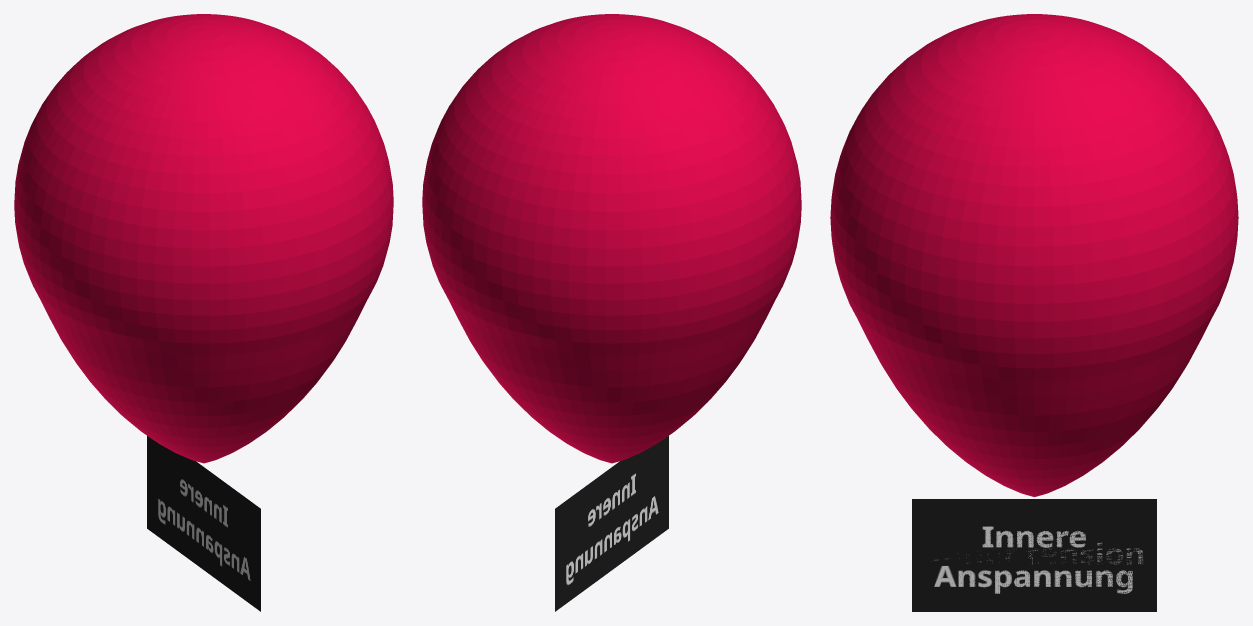
The model's file is ballon_03.glb.
3 renders of one model, left to right at view 1: azimuth 30°, elevation 25°; view 2: azimuth 150°, elevation 25°; view 3: azimuth 270°, elevation 25°, orthographic. The views are drawn at different scales.
Parts seen in each view (by area): view 1: Balloon, Sign_DE; view 2: Balloon, Sign_DE; view 3: Balloon, Sign_DE, Sign_EN.
Boxes of the visible parts, bbox=[...] form: Balloon: bbox=[14, 14, 393, 463]; Sign_DE: bbox=[147, 436, 260, 611]; Balloon: bbox=[422, 14, 801, 463]; Sign_DE: bbox=[555, 436, 668, 611]; Balloon: bbox=[830, 14, 1238, 496]; Sign_DE: bbox=[912, 501, 1156, 611]; Sign_EN: bbox=[912, 499, 1156, 609].
Size of the model in its own units: 2 by 3.13 by 2.
3 materials, 2 textured.
